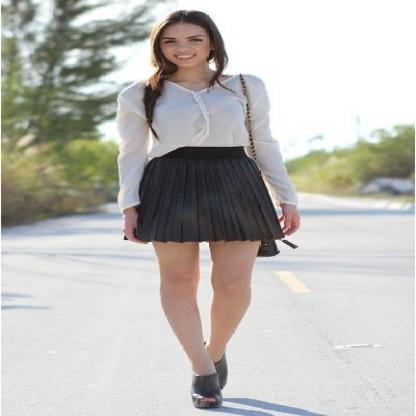shirt: (112, 74, 304, 214)
shoe: (192, 381, 220, 407)
skirt: (132, 146, 284, 243)
